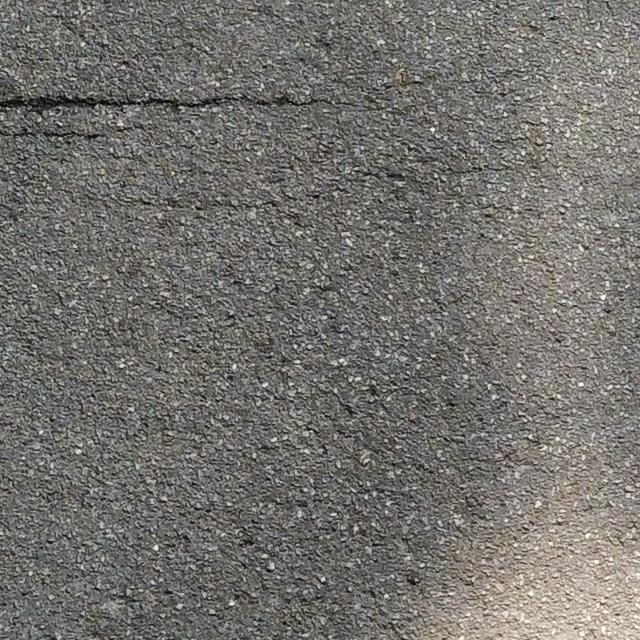TransverseCrack: (3, 97, 324, 113)
